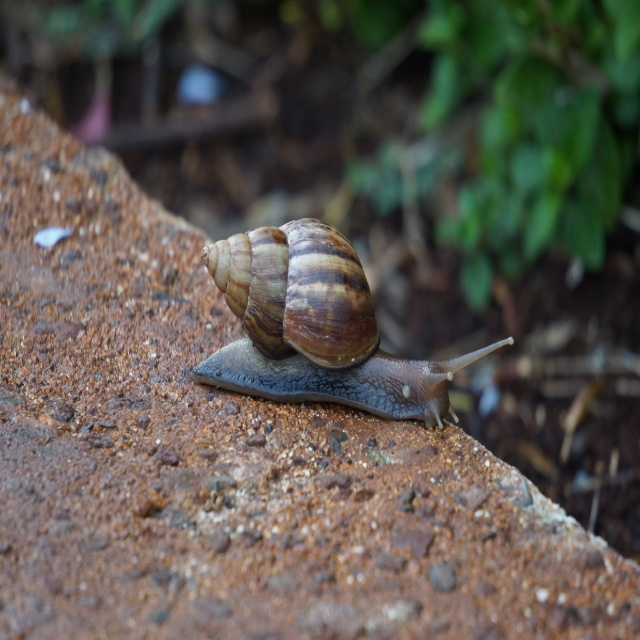Snail: (188, 211, 517, 431)
